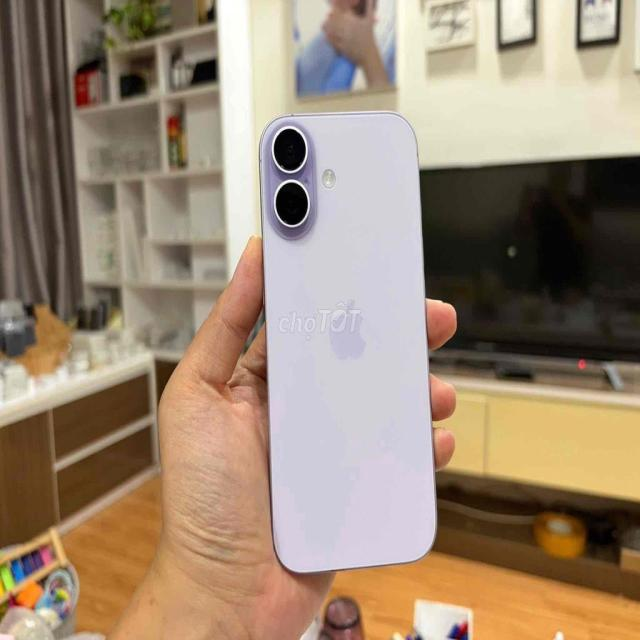gen_17: (255, 111, 448, 582)
